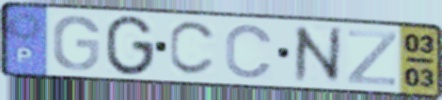C: (223, 22, 276, 81), (167, 20, 220, 79)
G: (103, 13, 157, 78), (50, 13, 102, 73)
N: (291, 24, 346, 86)
Z: (345, 28, 400, 88)
